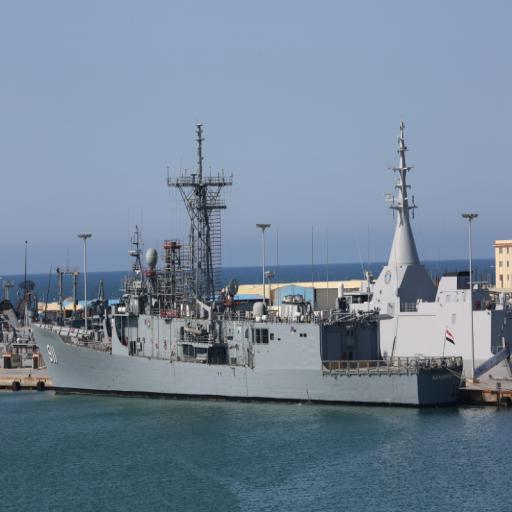Fragata: (27, 108, 469, 419)
